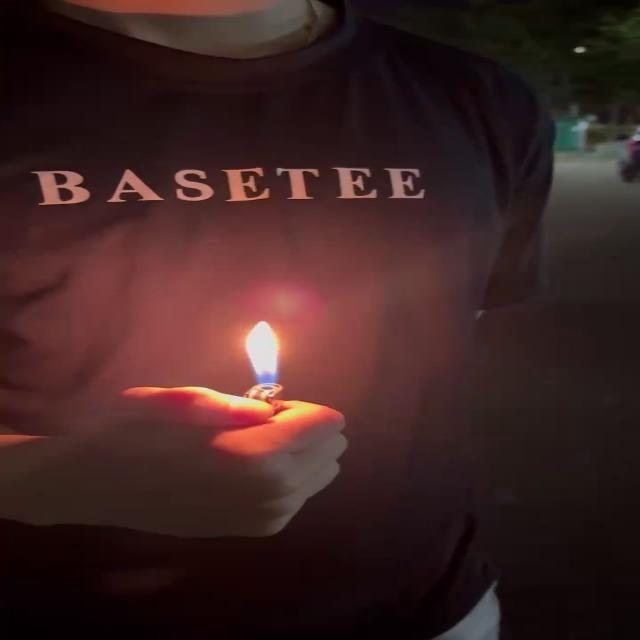Fire: (241, 317, 286, 391)
